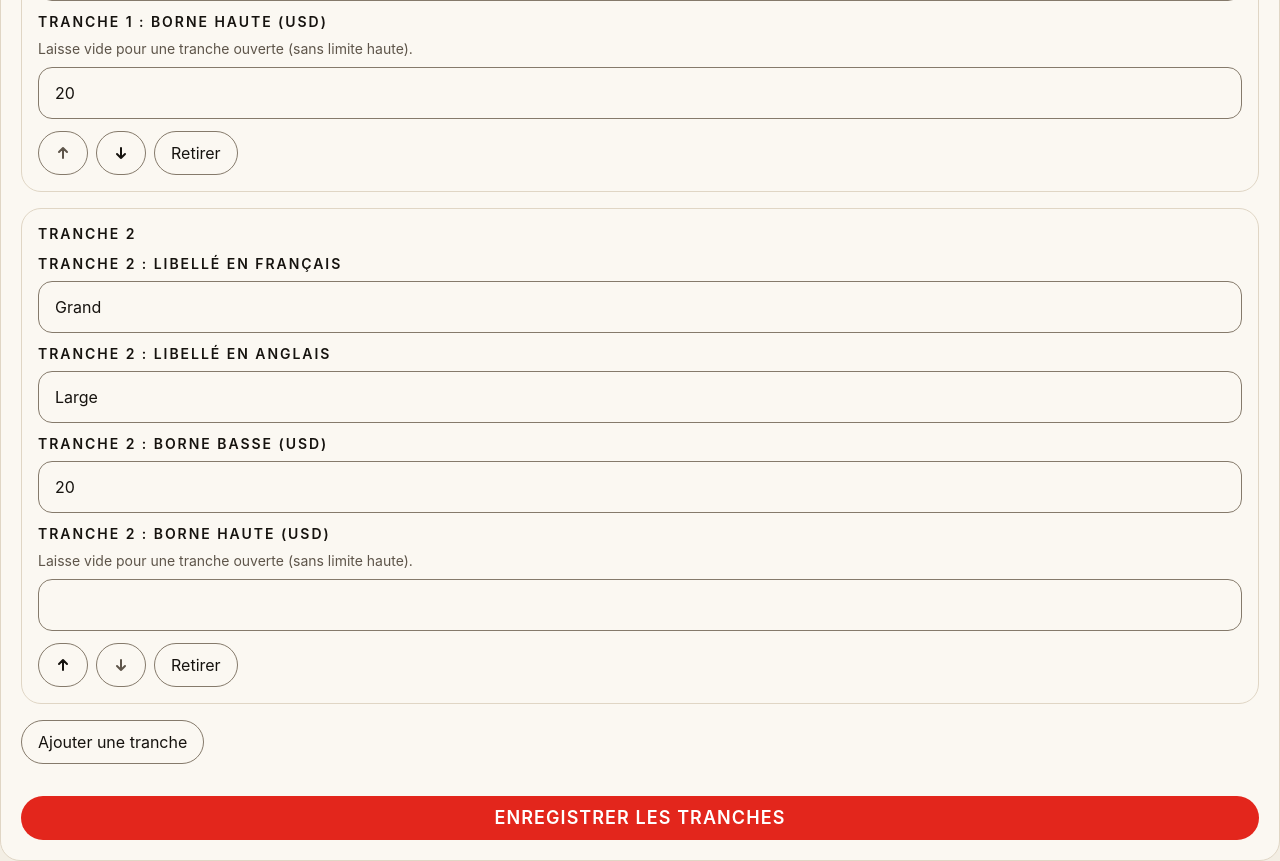
EditeurTranchesPrix › le succès n'apparaît qu'après la réponse réelle ; la liste envoyée est celle de l'écran
(page scrolled)
Click the button "Enregistrer les tranches". click: x=640, y=818
box: [21,796,1259,840]
(page scrolled)
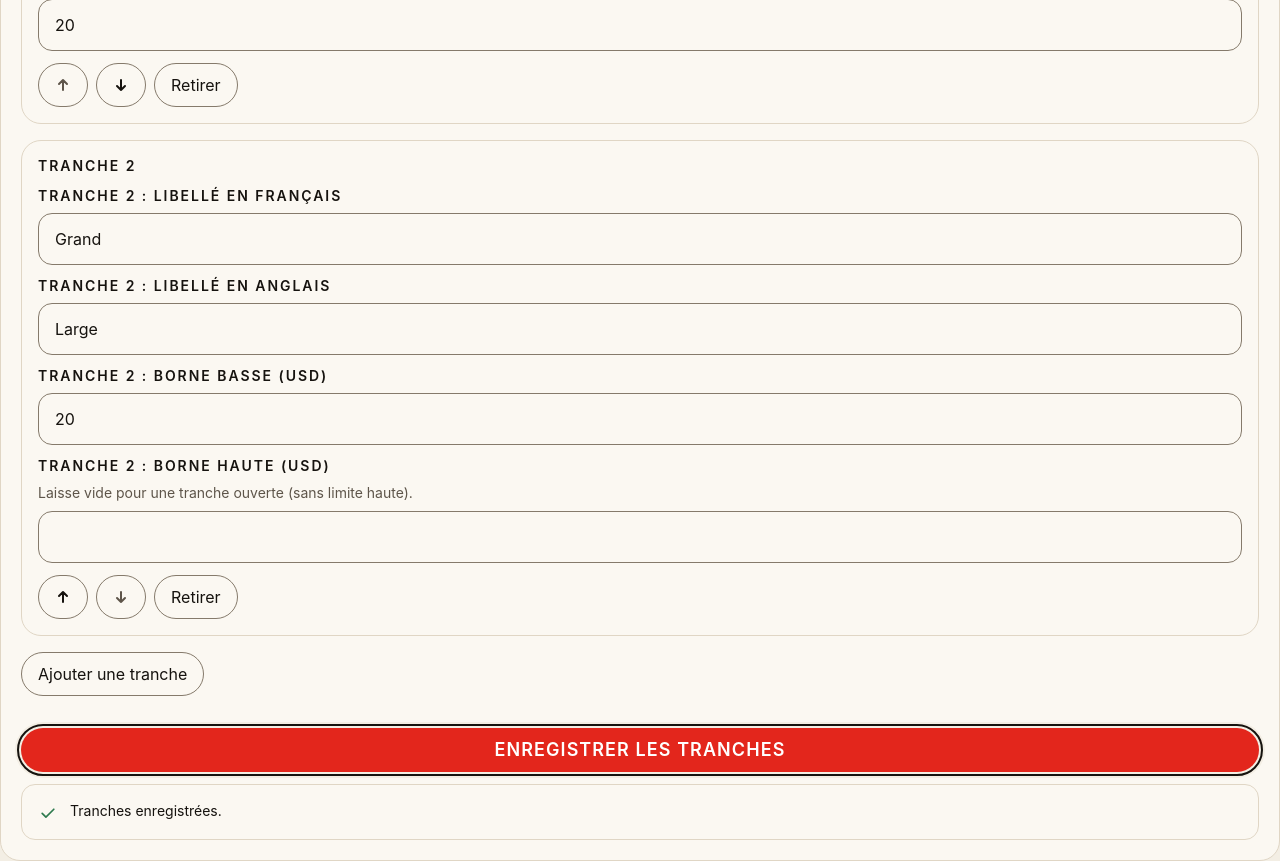
Expected: the button named "Enregistrement…" is shown, [21,728,1259,772]
Result: the text "Tranches enregistrées." is shown at [70,801,222,821]
